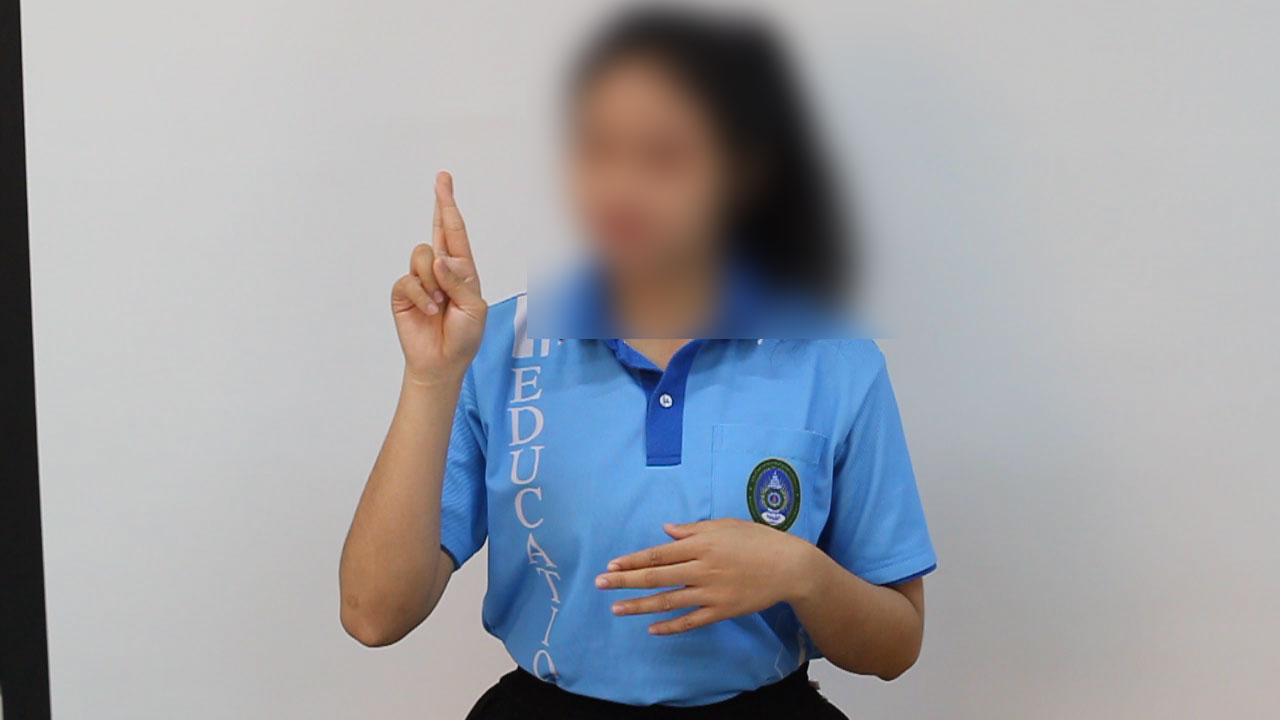rao: (374, 159, 499, 395)
